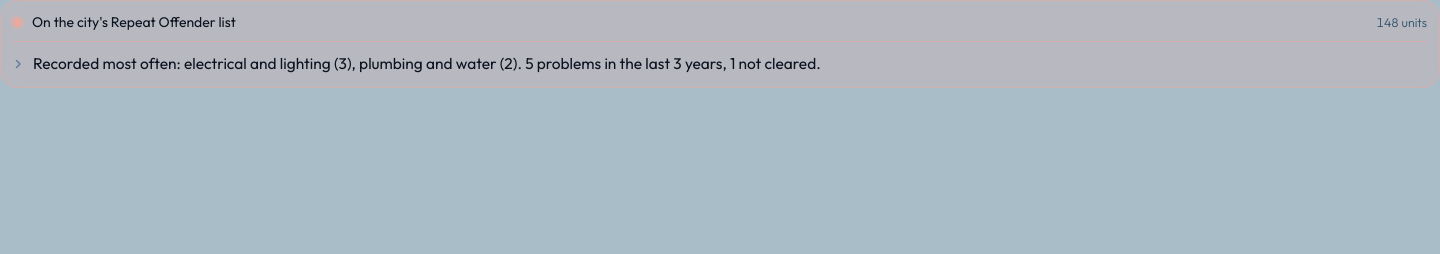
lists each kind with its count while the building file loads, and adds the city's wording once it is in
The image size is (1440, 254).
Later steps or results of the test are not shown.
Click the button: (720, 64) [5, 42, 1435, 85]
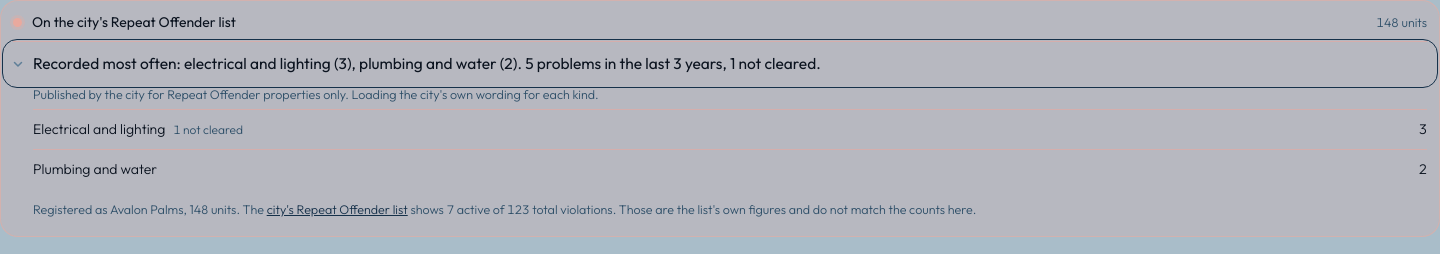
Check: the text "Published by the city" shows "Published by the city for Repeat Offender properties only. Loading the city's own wording for each kind.", box [33, 86, 599, 102]
